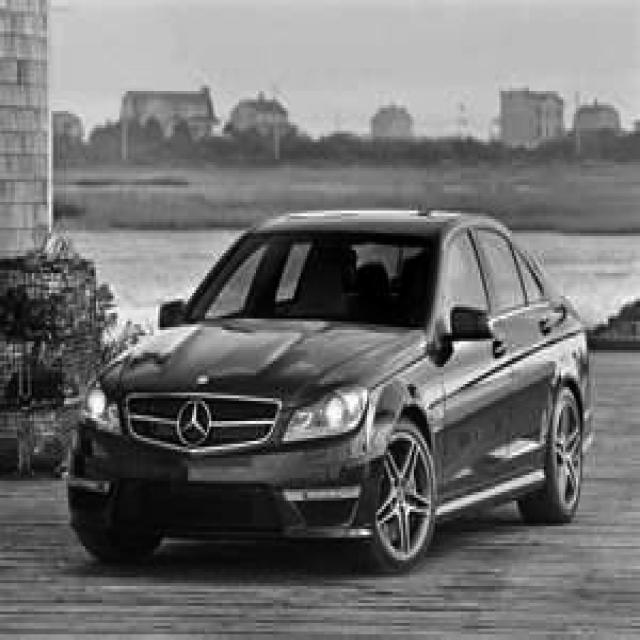car: (66, 205, 593, 572)
